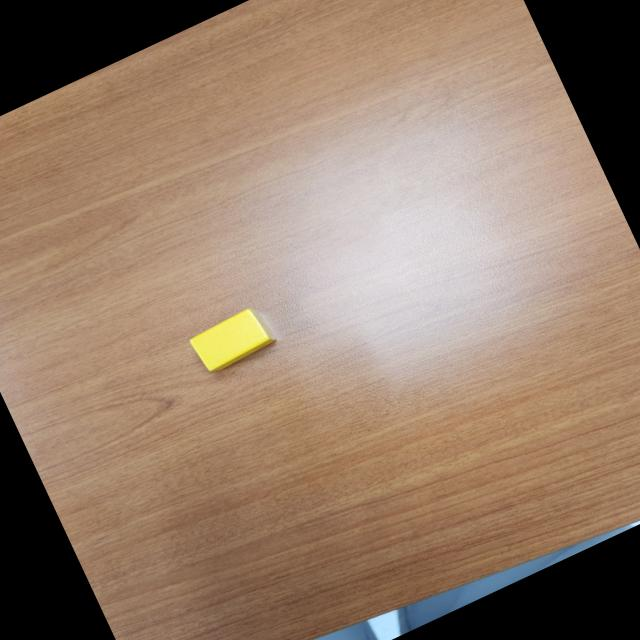yellow: (188, 302, 280, 377)
